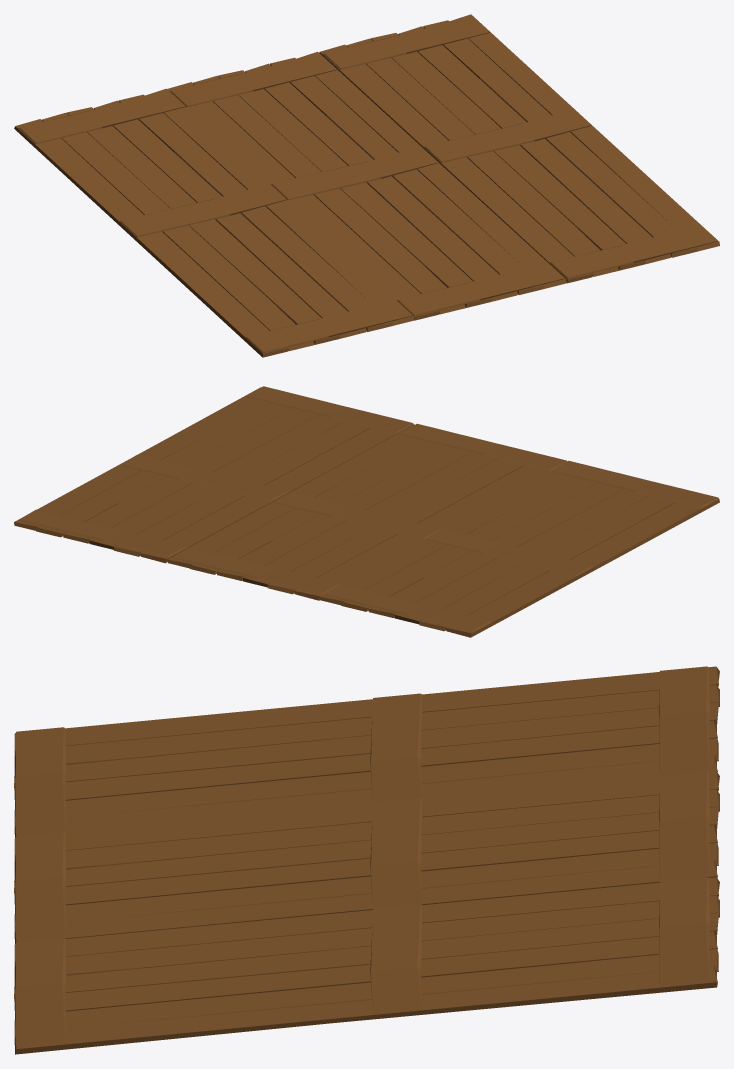
Rendered from roof.glb.
3 views of the same model, one above another, from view 1: azimuth 30°, elevation 25°; view 2: azimuth 150°, elevation 25°; view 3: azimuth 270°, elevation 25° (orthographic). The views are drawn at different scales.
Visible parts, largest first — view 1: roof; view 2: roof; view 3: roof.
Part boxes in pixels (left/top/right/bottom): roof: left=14, top=14, right=719, bottom=357; roof: left=14, top=386, right=719, bottom=637; roof: left=14, top=666, right=719, bottom=1054.
Bounding box in the file's own units: 3.41 × 0.3672 × 3.22.
